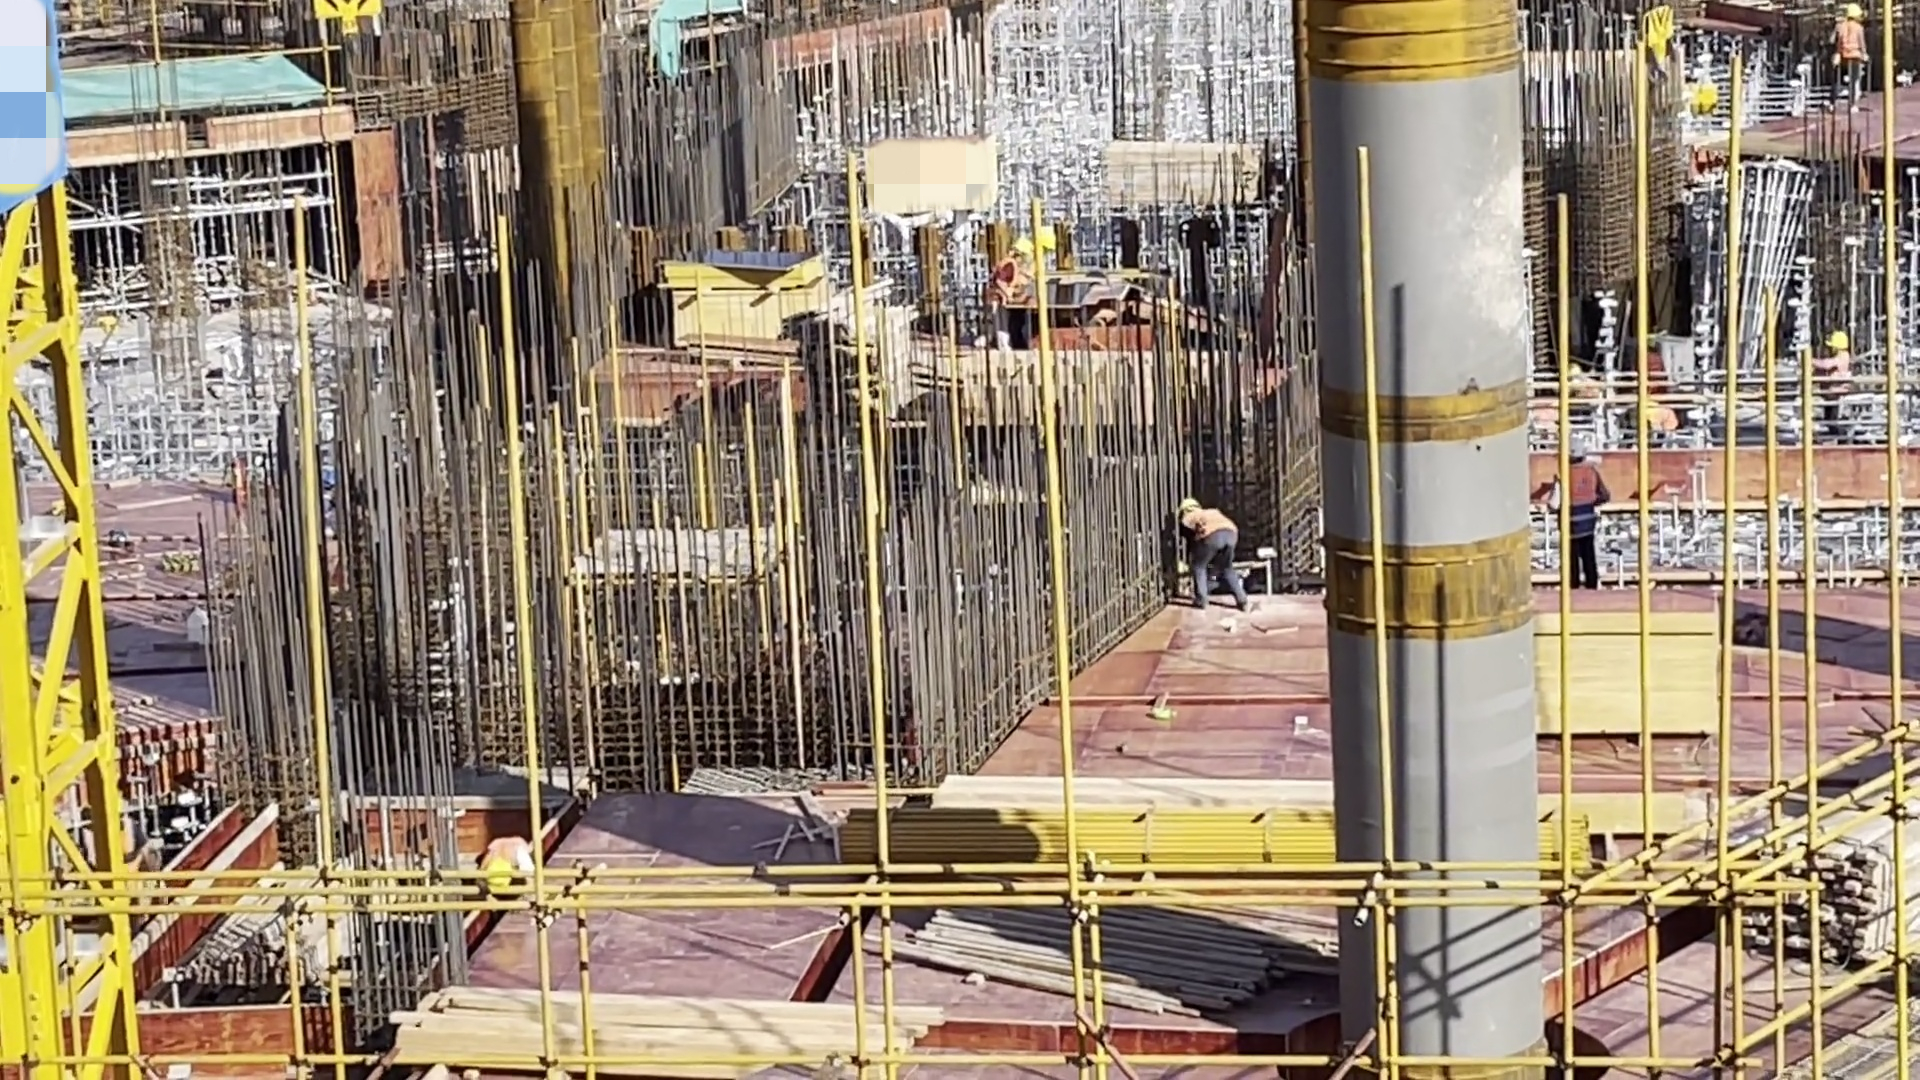helmet: (1559, 437, 1588, 465), (1824, 328, 1852, 357), (481, 865, 509, 888), (1173, 499, 1204, 518), (1009, 233, 1029, 261), (1845, 2, 1865, 22)
hook: (320, 1, 386, 44)
person: (1168, 495, 1254, 610), (1548, 444, 1616, 588), (1802, 321, 1855, 434), (462, 827, 537, 902), (982, 232, 1026, 351), (1833, 1, 1860, 120), (1620, 400, 1678, 452), (1552, 365, 1602, 417)
vest: (1548, 462, 1604, 541), (1187, 507, 1240, 549), (1837, 30, 1871, 70)
wood: (877, 871, 1255, 1038), (1715, 772, 1920, 971)
